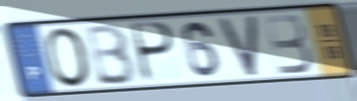6: (181, 19, 222, 79)
B: (84, 21, 140, 87), (262, 12, 315, 77)
O: (43, 25, 95, 89)
P: (130, 20, 177, 84)
V: (216, 13, 260, 79)
